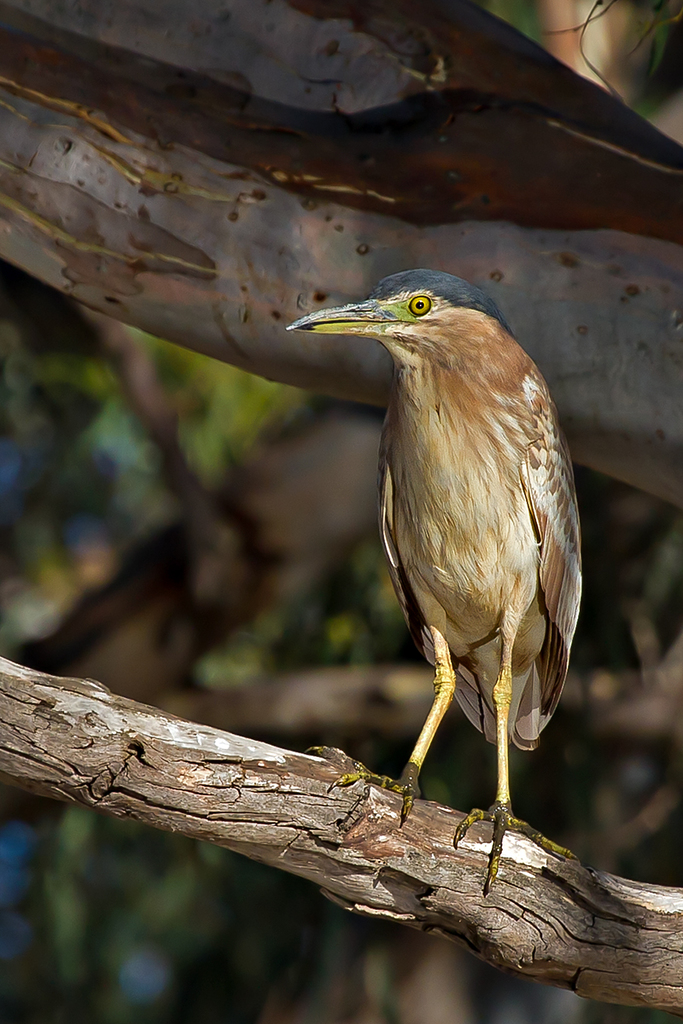Bird: (286, 269, 582, 899)
